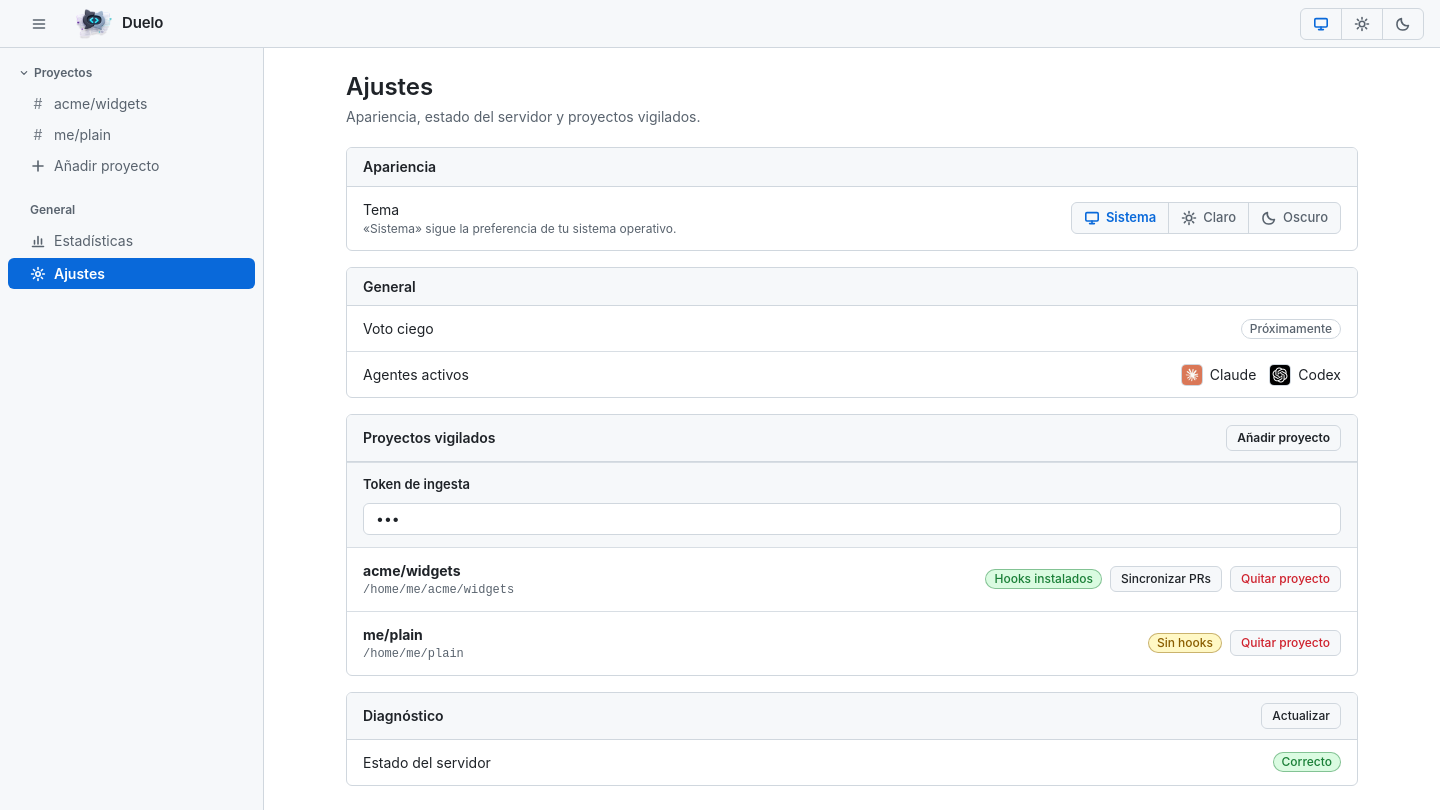
Test: project settings › asks for an explicit confirmation before removing and warns that the history goes
Click the button with aria-label "Quitar proyecto acme/widgets": (1286, 579) top-left (1230, 566), bottom-right (1341, 592)
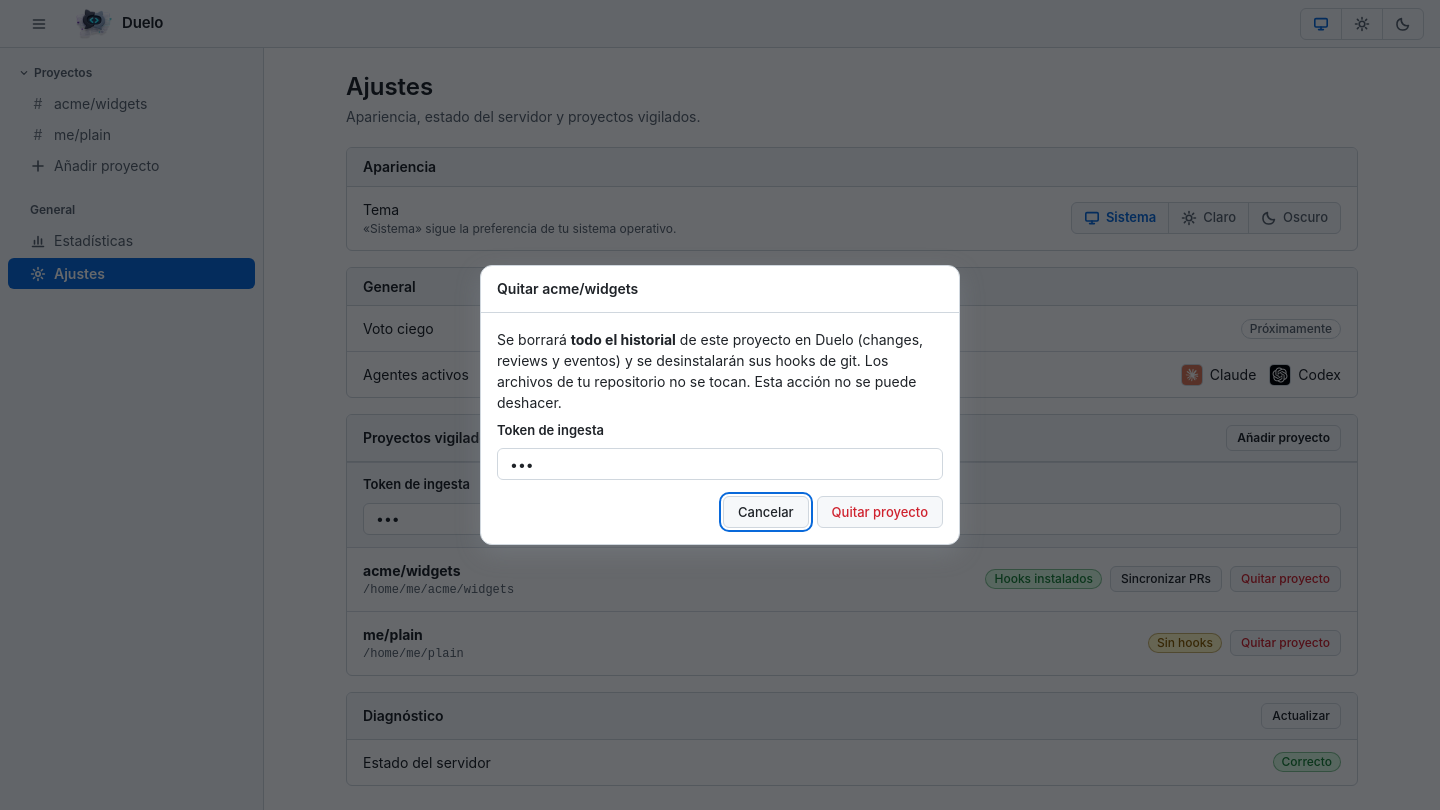
expect the dialog "Quitar acme/widgets" shows "todo el historial": met, box top-left (571, 330), bottom-right (676, 348)
expect the dialog "Quitar acme/widgets" shows "hooks de git": met, box top-left (621, 352), bottom-right (857, 368)
Click the button "Cancelar": (766, 512) top-left (723, 496), bottom-right (809, 528)
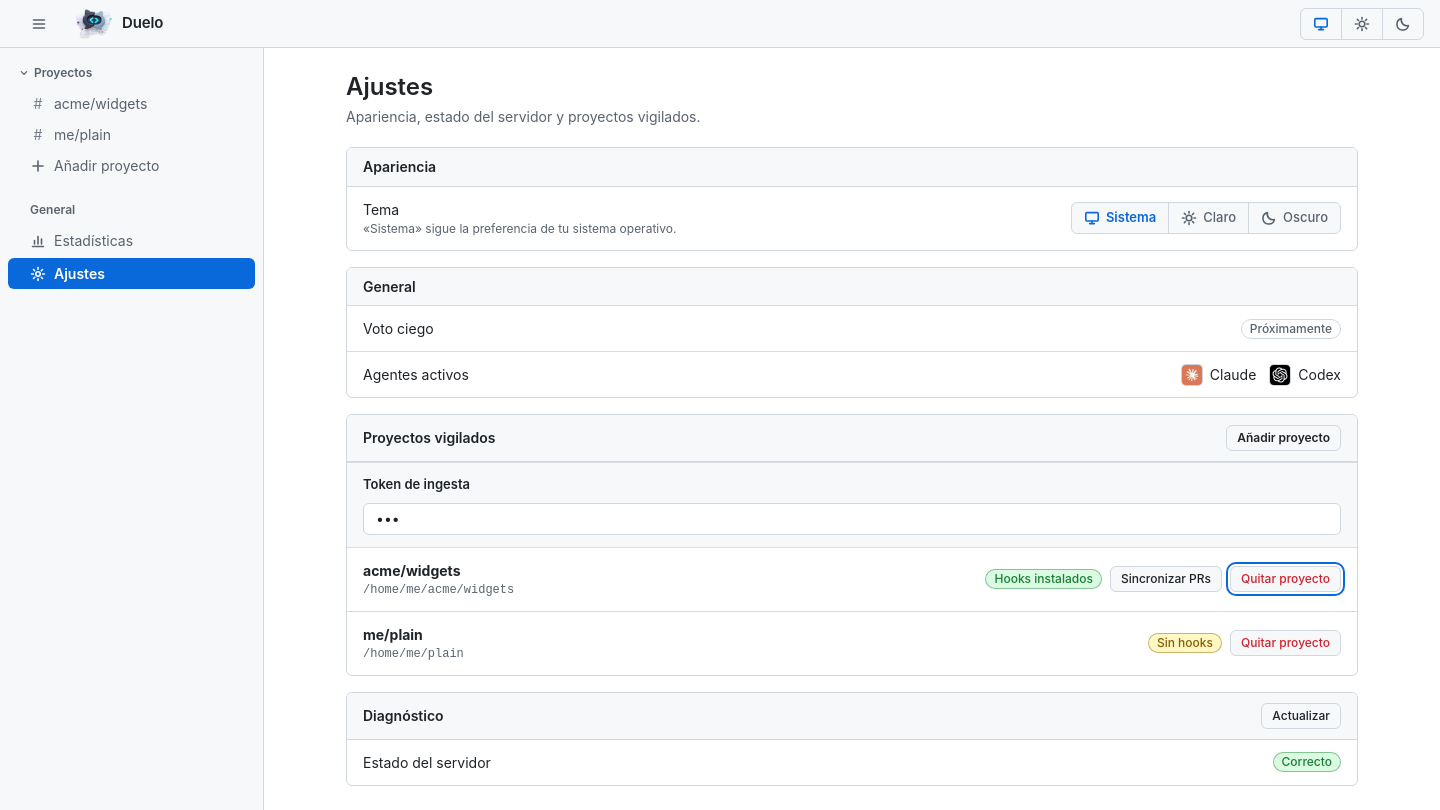
expect the dialog is gone: met
expect the text "acme/widgets" is shown once: met, box top-left (363, 562), bottom-right (460, 578)
